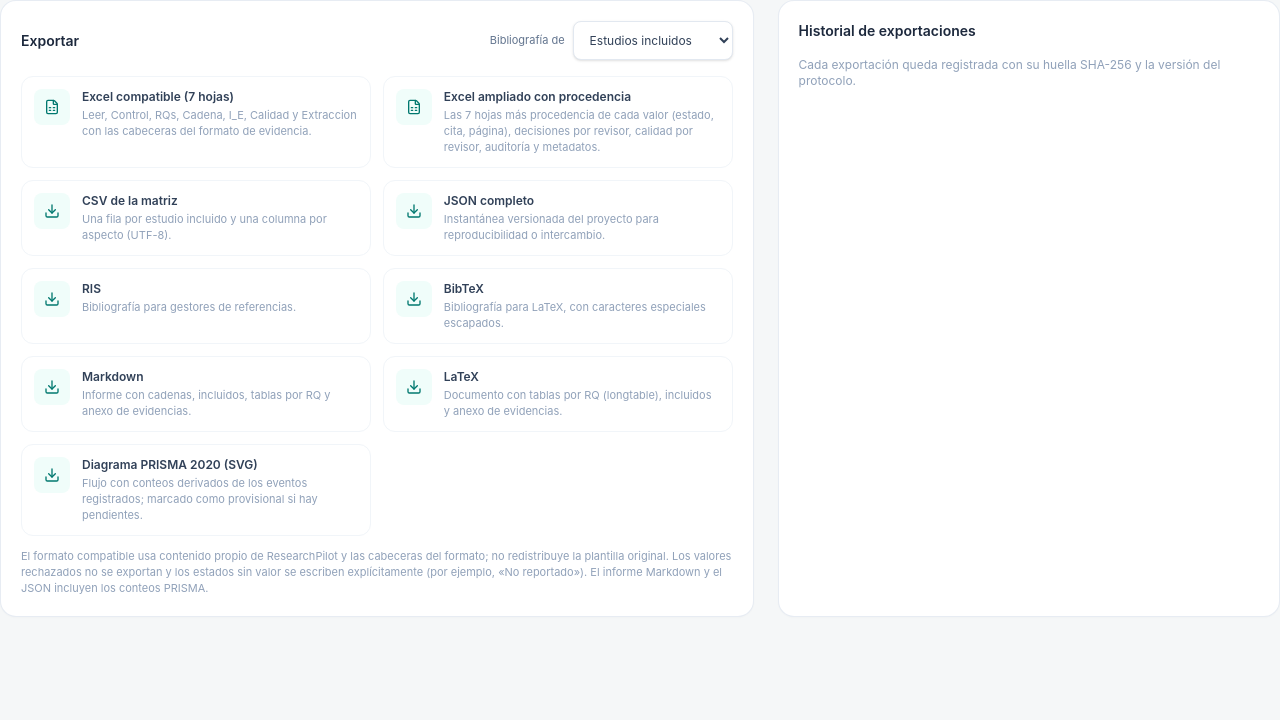
ExportTab › asks where to save and exports the compatible seven-sheet workbook
The image size is (1280, 720).
Click the button "Excel compatible (7 hojas)" at (196, 122), box [21,76,371,168]
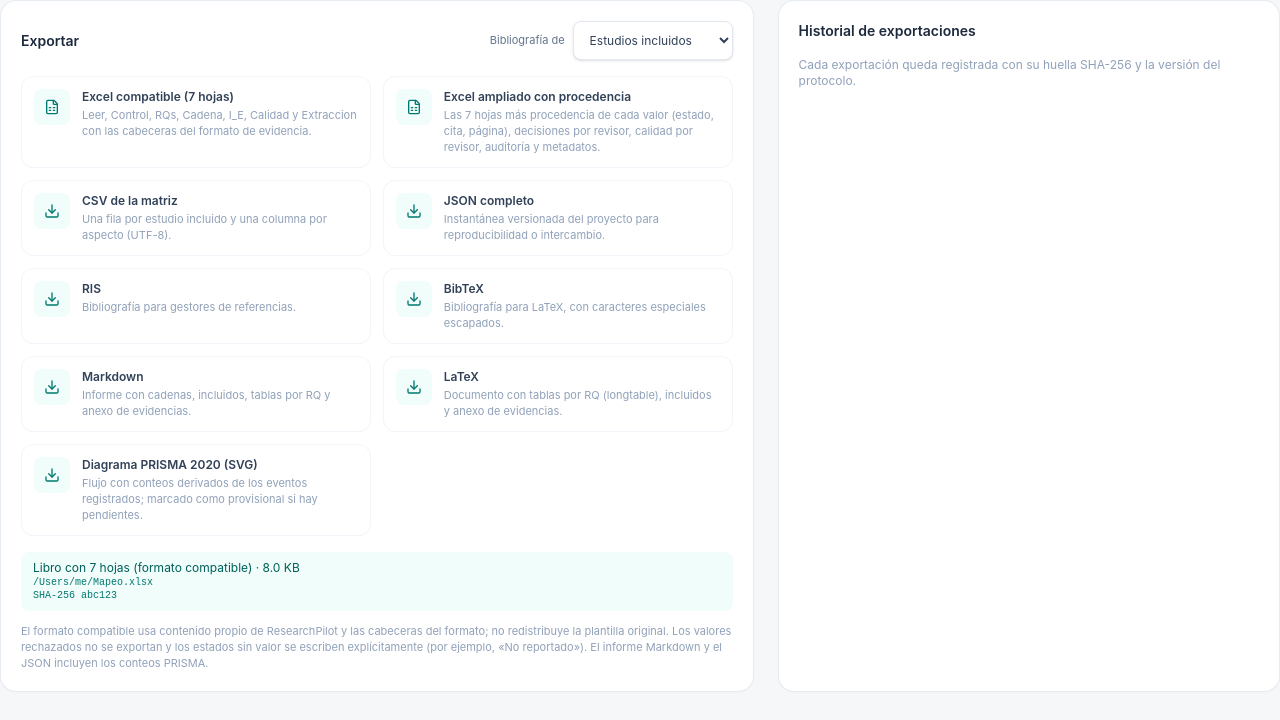
Now the text "SHA-256 abc123" is shown, box [33,590,117,601]
